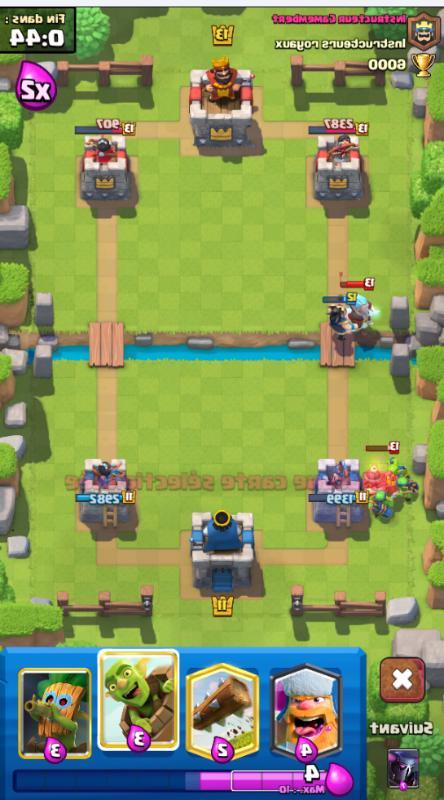enemy_ice_wizard: (336, 269, 383, 333)
enemy_miner: (359, 435, 400, 494)
player_electro_wizard: (320, 291, 360, 347)
player_spear_goblins: (367, 488, 397, 521), (394, 474, 423, 506)
